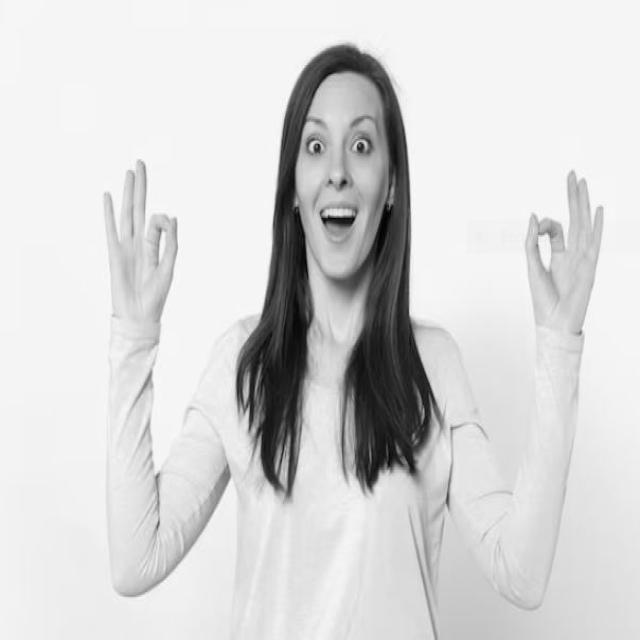perfect: (518, 160, 607, 335), (98, 150, 182, 322)
